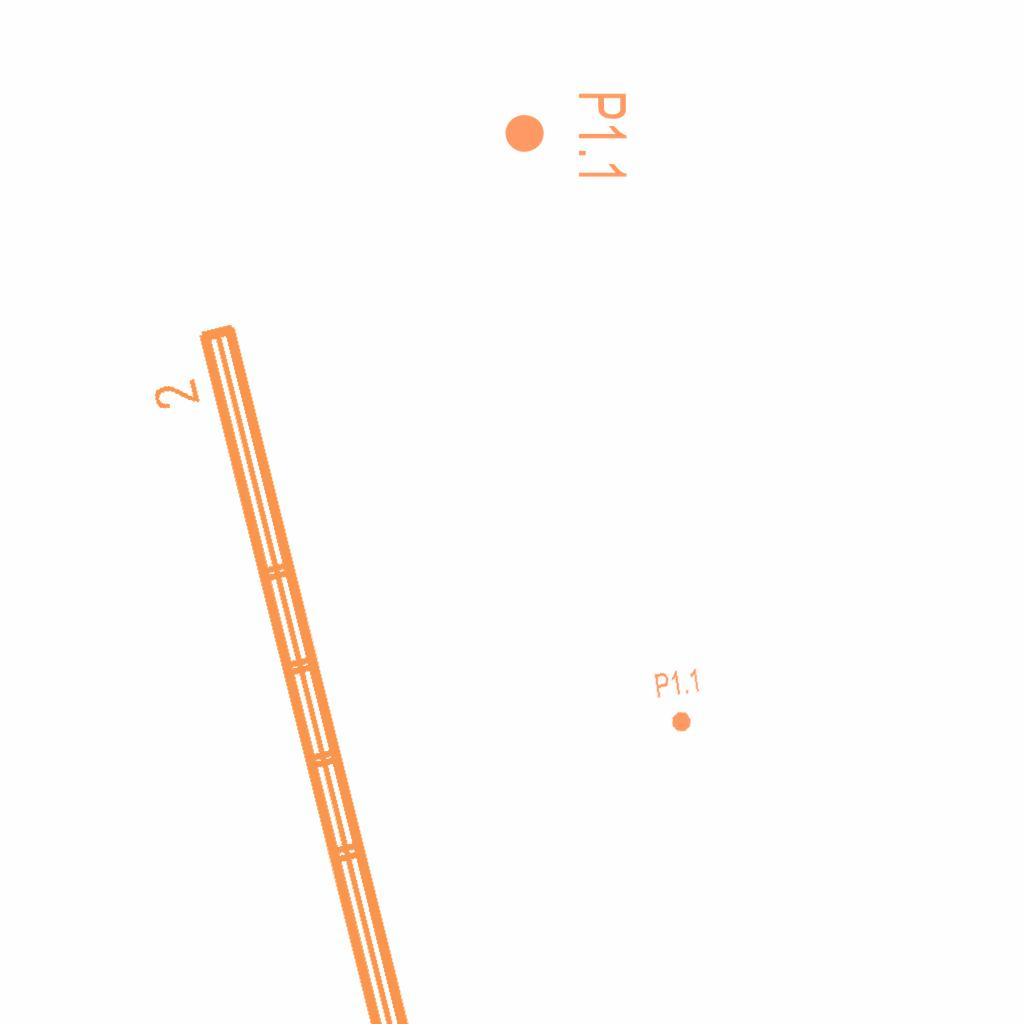Ambulanz_Pendelleuchte_LED: (135, 311, 431, 1024)
Downlight_LED_Einbauleuchten_Flur: (502, 90, 630, 183), (652, 666, 708, 736)
